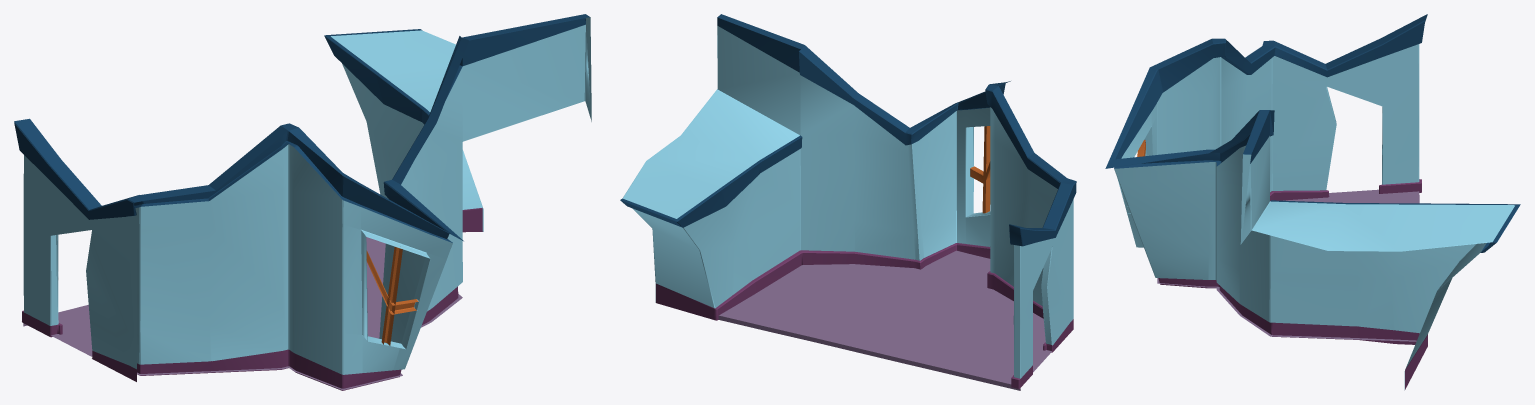
The model's file is Child_Room.fbx.
The picture shows the model from 3 angles, left to right: view 1: azimuth 30°, elevation 25°; view 2: azimuth 150°, elevation 25°; view 3: azimuth 270°, elevation 25°; orthographic projection. The views are drawn at different scales.
Visible parts, largest first — view 1: Child_Room; view 2: Child_Room; view 3: Child_Room.
Boxes of the visible parts, x1=… form: Child_Room: x1=14, y1=14, x2=591, y2=390; Child_Room: x1=620, y1=14, x2=1076, y2=390; Child_Room: x1=1105, y1=14, x2=1520, y2=390.
Bounding box in the file's own units: 1849 × 1051 × 1630.
